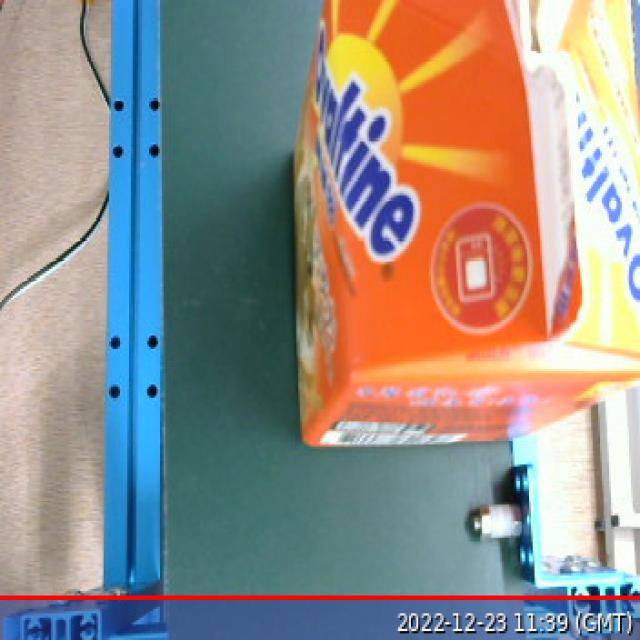non_white_jug: (300, 0, 640, 444)
